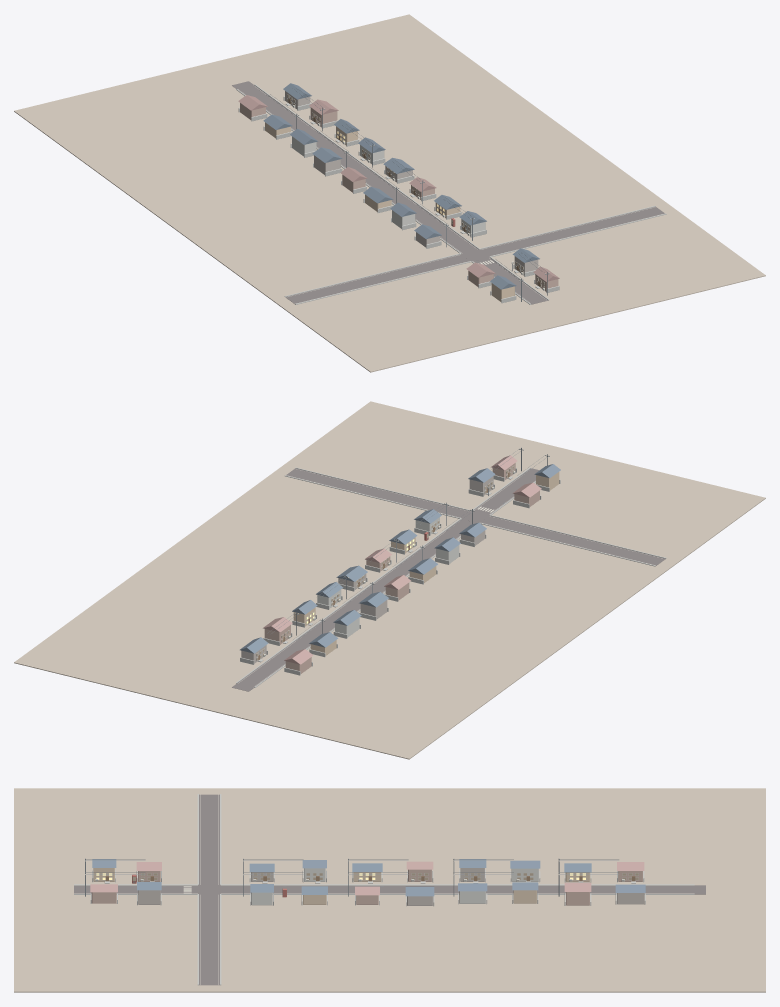
The model's file is residential_morning_junction.glb.
The picture shows the model from 3 angles, top to bottom: view 1: azimuth 30°, elevation 25°; view 2: azimuth 150°, elevation 25°; view 3: azimuth 270°, elevation 25°; orthographic projection. The views are drawn at different scales.
Parts seen in each view (by area): view 1: Static.Pavement, Static.Roof, Branch.front.Asphalt, Static.Concrete, Branch.left.Asphalt, Branch.right.Asphalt, Static.Roof.pink, Static.Wall.peach, Static.Wall.silver, Static.Wall.cream, Static.Asphalt, Static.Wall.ivory (+4 smaller); view 2: Static.Pavement, Static.Roof, Branch.front.Asphalt, Static.Concrete, Branch.left.Asphalt, Branch.right.Asphalt, Static.Roof.pink, Static.Wall.peach, Static.Wall.silver, Static.Wall.cream, Static.Asphalt, Static.Wall.ivory (+3 smaller); view 3: Static.Pavement, Static.Roof, Branch.front.Asphalt, Branch.right.Asphalt, Branch.left.Asphalt, Static.Roof.pink, Static.Wall.peach, Static.Steel, Static.Wall.silver, Static.Wall.cream, Static.Wall.ivory, Static.Concrete (+7 smaller).
Part boxes in pixels (x1,y1,x2,y2): Static.Pavement: (14, 14, 765, 372); Static.Roof: (263, 83, 539, 289); Branch.front.Asphalt: (232, 81, 478, 253); Static.Concrete: (238, 96, 559, 304); Branch.left.Asphalt: (285, 254, 469, 304); Branch.right.Asphalt: (481, 206, 664, 256); Static.Roof.pink: (238, 95, 559, 281); Static.Wall.peach: (240, 103, 558, 291); Static.Wall.silver: (285, 91, 538, 275); Static.Wall.cream: (265, 122, 514, 301); Static.Asphalt: (461, 249, 547, 304); Static.Wall.ivory: (292, 136, 485, 236); Static.Pavement: (14, 401, 765, 759); Static.Roof: (240, 464, 560, 653); Branch.front.Asphalt: (232, 519, 476, 691); Static.Concrete: (240, 467, 560, 675); Branch.left.Asphalt: (481, 516, 665, 565); Branch.right.Asphalt: (286, 468, 470, 517); Static.Roof.pink: (263, 455, 541, 664); Static.Wall.peach: (264, 463, 539, 673); Static.Wall.silver: (241, 476, 493, 663); Static.Wall.cream: (293, 472, 559, 655); Static.Asphalt: (461, 468, 539, 522); Static.Wall.ivory: (317, 517, 459, 637); Static.Pavement: (14, 788, 765, 992); Static.Roof: (92, 859, 645, 896); Branch.front.Asphalt: (221, 885, 705, 894); Branch.right.Asphalt: (199, 894, 219, 985); Branch.left.Asphalt: (199, 794, 219, 884); Static.Roof.pink: (90, 861, 644, 895); Static.Wall.peach: (91, 869, 642, 905); Static.Steel: (85, 858, 623, 896); Static.Wall.silver: (138, 868, 644, 905); Static.Wall.cream: (93, 868, 590, 904); Static.Wall.ivory: (251, 868, 538, 905); Static.Concrete: (74, 869, 645, 906).
Size of the model in its own units: 64 by 3.73 by 100.
